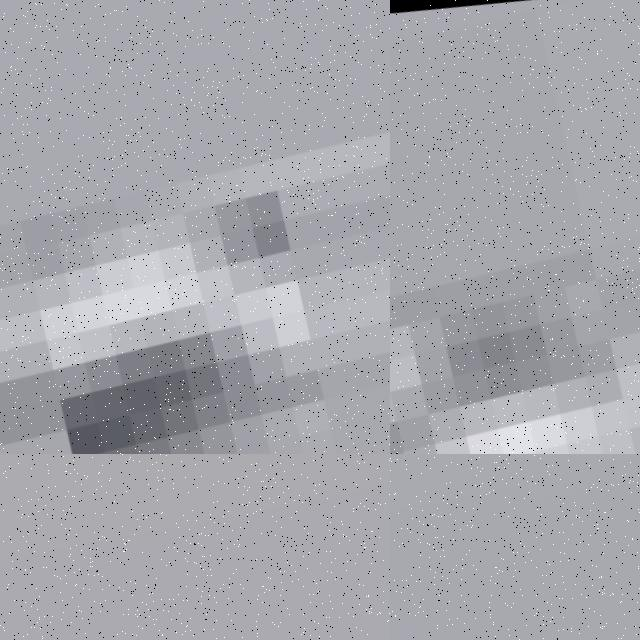drone: (0, 0, 390, 454), (390, 0, 640, 454), (472, 454, 640, 640)
